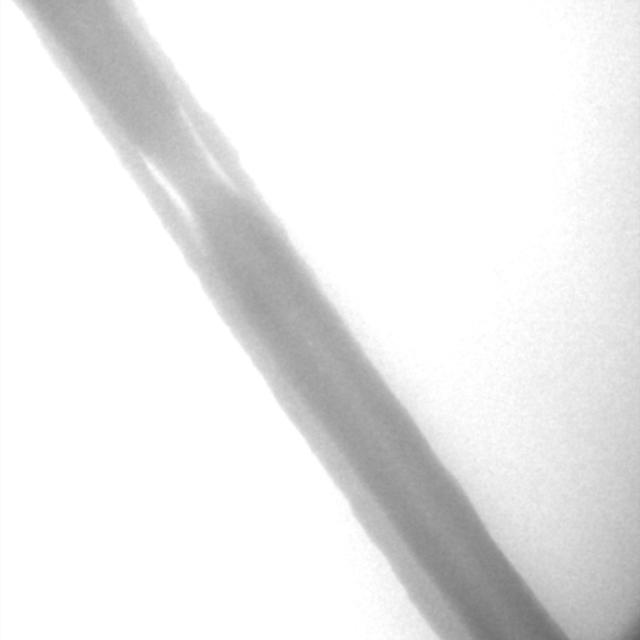unfused: (112, 149, 201, 266), (177, 84, 252, 202)
